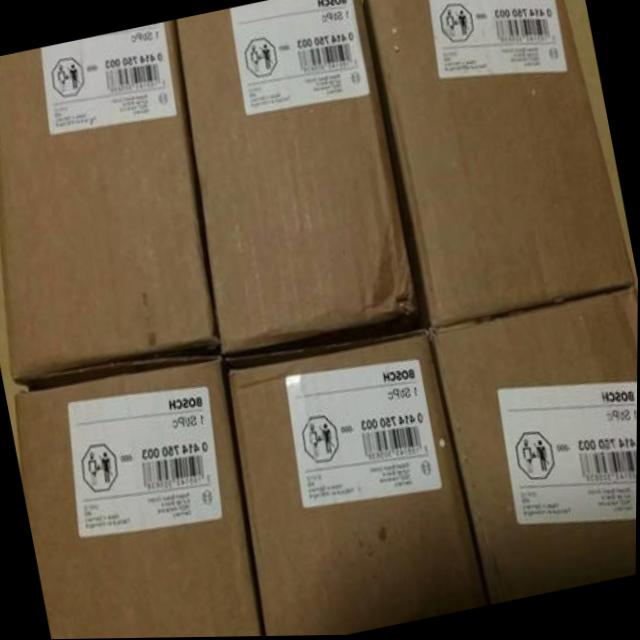box: (362, 0, 635, 330), (176, 0, 418, 354), (224, 332, 486, 637), (0, 22, 221, 382), (17, 355, 263, 639), (430, 289, 638, 606)
